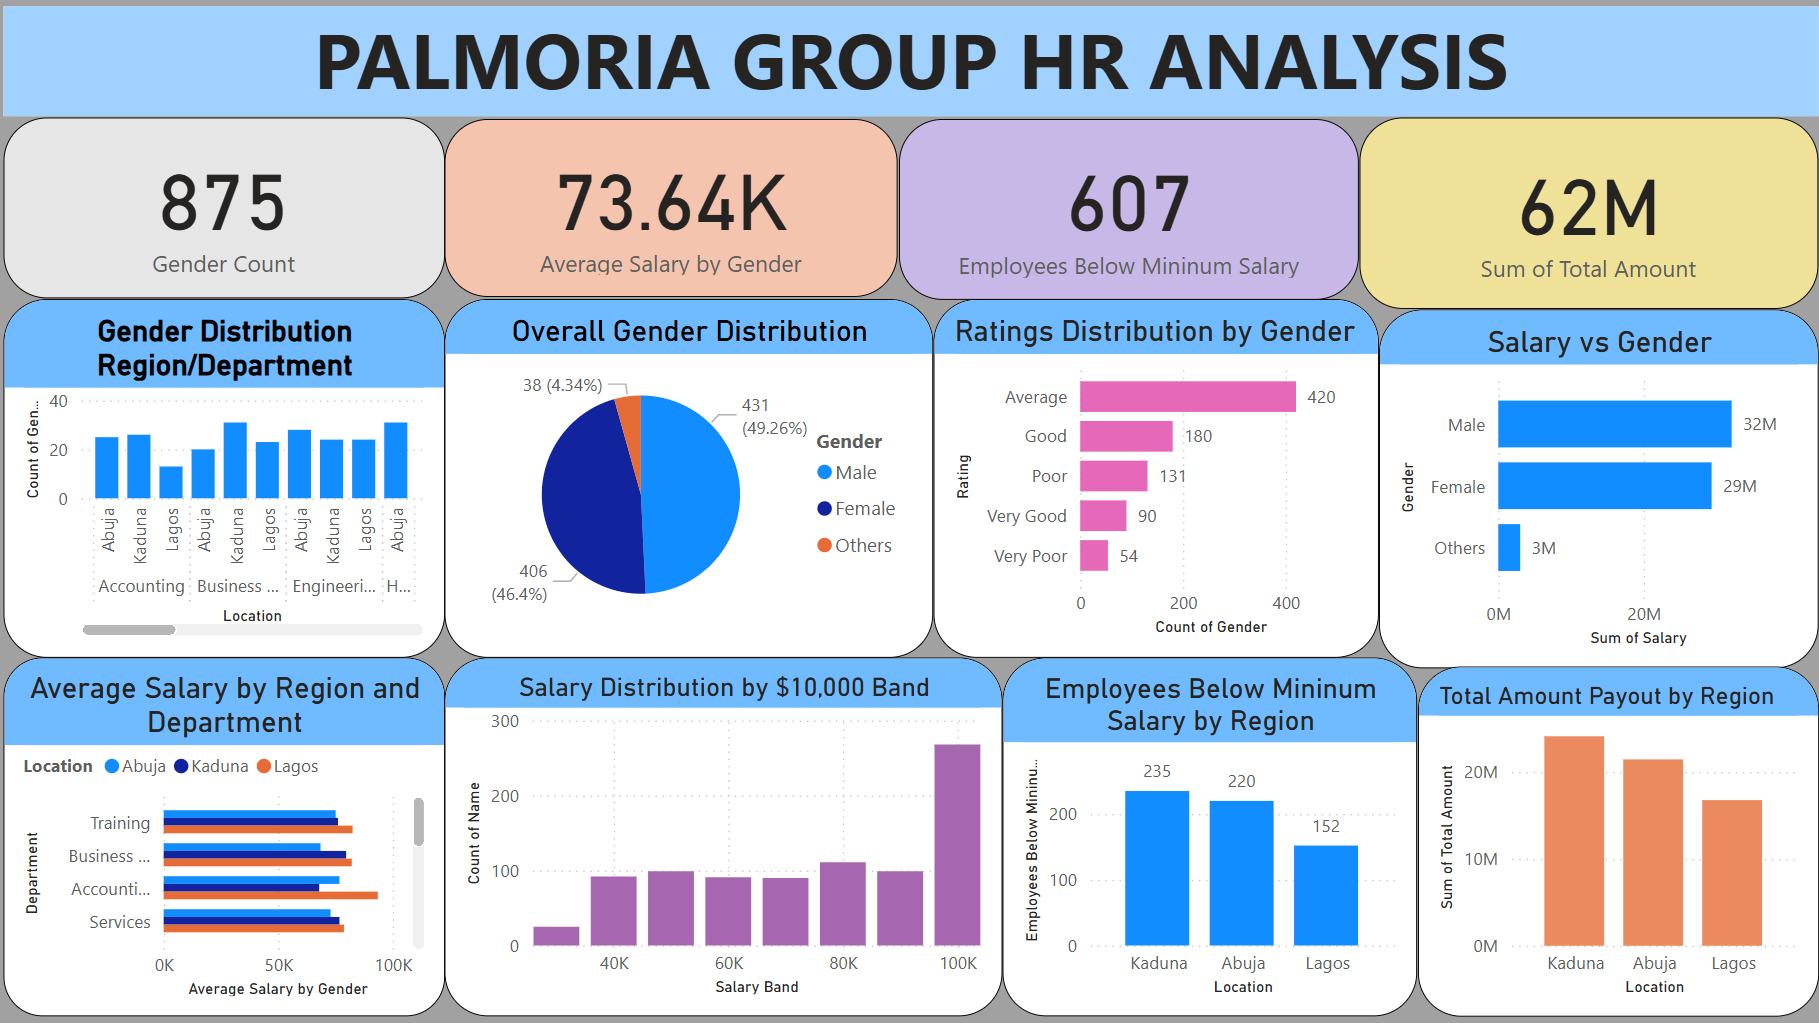

Layout of this report page (visuals, bound fields, positions):
{"tool":"powerbi","page":{"name":"Page 1","canvas":[1280,720],"ordinal":0},"visuals":[{"type":"textbox","title":"PALMORA GROUP HR ANALYSIS","box":[21.5,11.5,1258,76.1],"z":0},{"type":"columnChart","title":"Gender Distribution Region/Department ","fields":{"Category":["Palmoria Group emp-data.Department","Palmoria Group emp-data.Location"],"Y":["Palmoria Group emp-data.Gender"]},"box":[21.5,214,305.9,248.4],"z":1000},{"type":"pieChart","title":"Overall Gender Distribution","fields":{"Category":["Palmoria Group emp-data.Gender"],"Y":["Palmoria Group emp-data.Gender"]},"box":[327.4,214,338.9,248.4],"z":2000},{"type":"card","fields":{"Values":["Palmoria Group emp-data.Gender Count"]},"box":[21.5,90.5,405,123.5],"z":3000},{"type":"clusteredBarChart","title":"Ratings Distribution by Gender","fields":{"Category":["Palmoria Group emp-data.Rating"],"Y":["Palmoria Group emp-data.Gender"]},"box":[666.3,214,308.8,248.4],"z":4000},{"type":"clusteredBarChart","title":"Average Salary by Region and Department","fields":{"Series":["Palmoria Group emp-data.Location"],"Category":["Palmoria Group emp-data.Department"],"Y":["Palmoria Group emp-data.Average Salary by Gender"]},"box":[21.8,462.6,325.4,241.2],"z":5000},{"type":"card","fields":{"Values":["Palmoria Group emp-data.Average Salary by Gender"]},"box":[426.5,90.5,420.8,123.5],"z":6000},{"type":"clusteredBarChart","title":"Salary vs Gender","fields":{"Category":["Palmoria Group emp-data.Gender"],"Y":["Palmoria Group emp-data.Salary"]},"box":[975,221.4,304.6,248.4],"z":7000},{"type":"card","fields":{"Values":["Palmoria Group emp-data.Employees Below Mininum Salary"]},"box":[847.3,87.6,432.3,126.4],"z":8000},{"type":"columnChart","title":"Employees Below Mininum Salary by Region","fields":{"Category":["Palmoria Group emp-data.Location"],"Y":["Palmoria Group emp-data.Employees Below Mininum Salary"]},"box":[936.6,462.6,343,241.2],"z":9000},{"type":"columnChart","title":"Salary Distribution by $10,000 Band","fields":{"Category":["Palmoria Group emp-data.Salary Band"],"Y":["Palmoria Group emp-data.Name"]},"box":[347.2,462.6,589.4,241.2],"z":10000}]}

Visuals, with their boxes in screenshot pixels (x1, y1, x2, y2), scaled from the page's 1280x720 canvas onto the 1819x1023 screenshot:
"PALMORA GROUP HR ANALYSIS" textbox: crop(31, 16, 1818, 124)
"Gender Distribution Region/Department " columnChart: crop(31, 304, 465, 657)
"Overall Gender Distribution" pieChart: crop(465, 304, 947, 657)
card - Palmoria Group emp-data.Gender Count: crop(31, 129, 606, 304)
"Ratings Distribution by Gender" clusteredBarChart: crop(947, 304, 1386, 657)
"Average Salary by Region and Department" clusteredBarChart: crop(31, 657, 493, 1000)
card - Palmoria Group emp-data.Average Salary by Gender: crop(606, 129, 1204, 304)
"Salary vs Gender" clusteredBarChart: crop(1386, 315, 1818, 668)
card - Palmoria Group emp-data.Employees Below Mininum Salary: crop(1204, 124, 1818, 304)
"Employees Below Mininum Salary by Region" columnChart: crop(1331, 657, 1818, 1000)
"Salary Distribution by $10,000 Band" columnChart: crop(493, 657, 1331, 1000)
